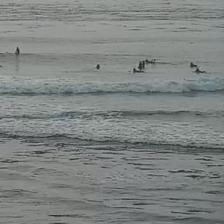surfer: (132, 68, 144, 74), (145, 58, 156, 64), (193, 69, 206, 74), (138, 60, 143, 68), (15, 47, 20, 55), (189, 62, 196, 67), (96, 64, 100, 70), (1, 64, 2, 67)
